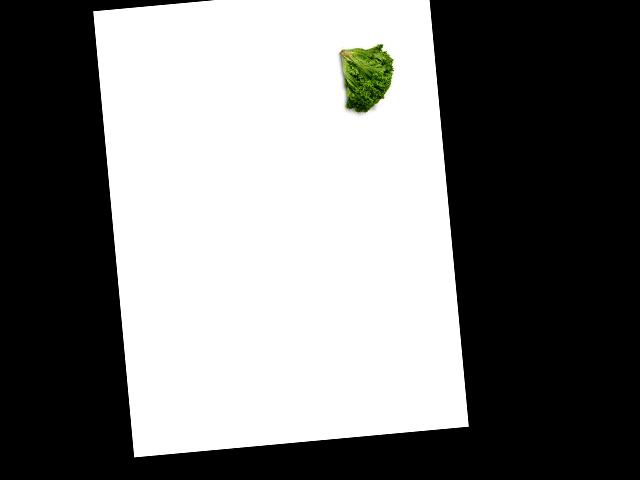lettuce: (333, 40, 401, 118)
